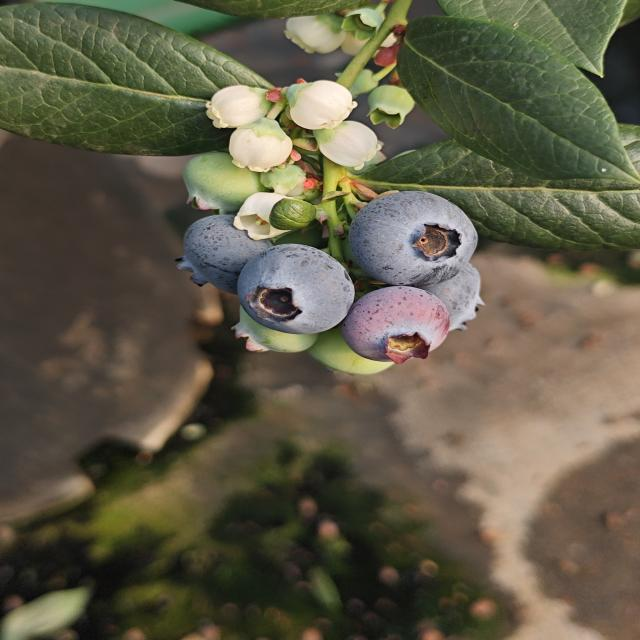ripe: (341, 184, 480, 285), (240, 244, 352, 338), (165, 212, 283, 298), (341, 279, 455, 363), (409, 258, 490, 336)
